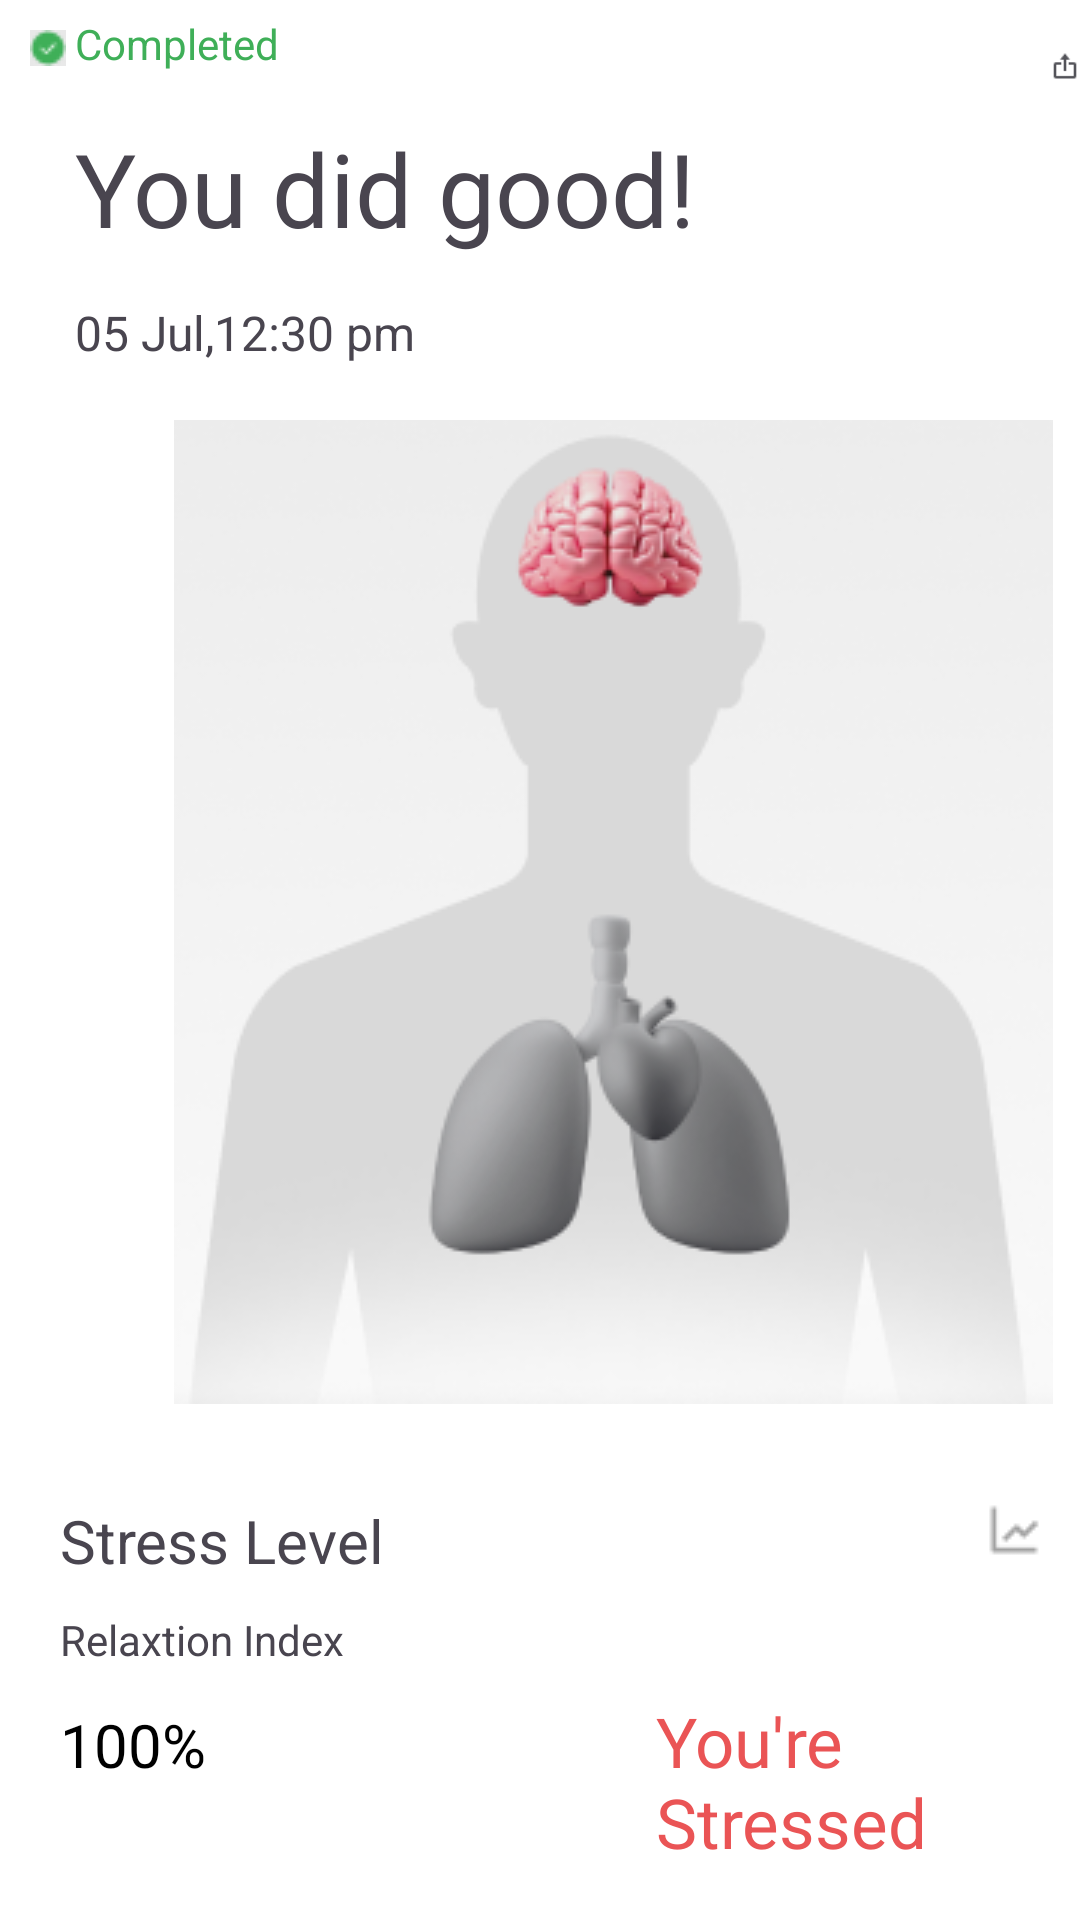

Where icons sit on this 1080x1920 app screen, as (x1,y1,x2,y2):
chartimg: (990,1506,1038,1554)
shareimg: (1053,53,1077,79)
verified: (30,30,66,66)
